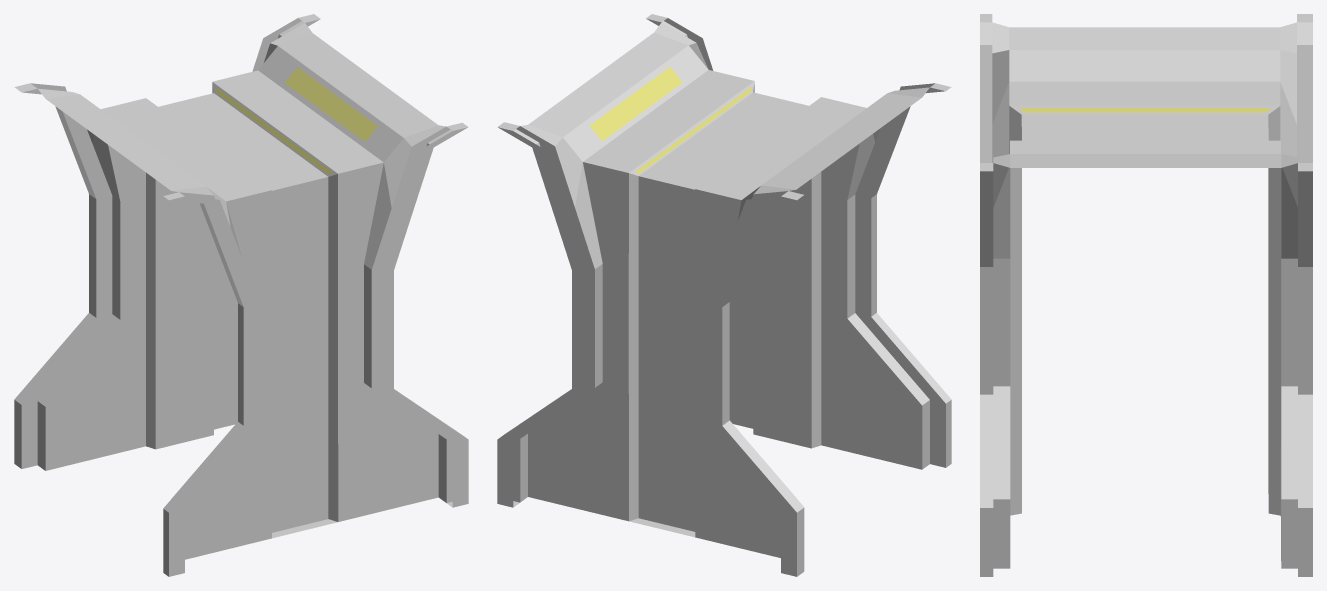
File: DoorFrame.fbx
The picture shows the model from 3 angles, left to right: view 1: azimuth 30°, elevation 25°; view 2: azimuth 150°, elevation 25°; view 3: azimuth 270°, elevation 25°; orthographic projection. The views are drawn at different scales.
Parts seen in each view (by area): view 1: DoorFrameLP; view 2: DoorFrameLP; view 3: DoorFrameLP.
Part boxes in pixels (<box>): DoorFrameLP: <box>14,14,468,576</box>; DoorFrameLP: <box>497,14,951,576</box>; DoorFrameLP: <box>980,14,1312,576</box>.
Bounding box in the file's own units: 224 × 269 × 200.
